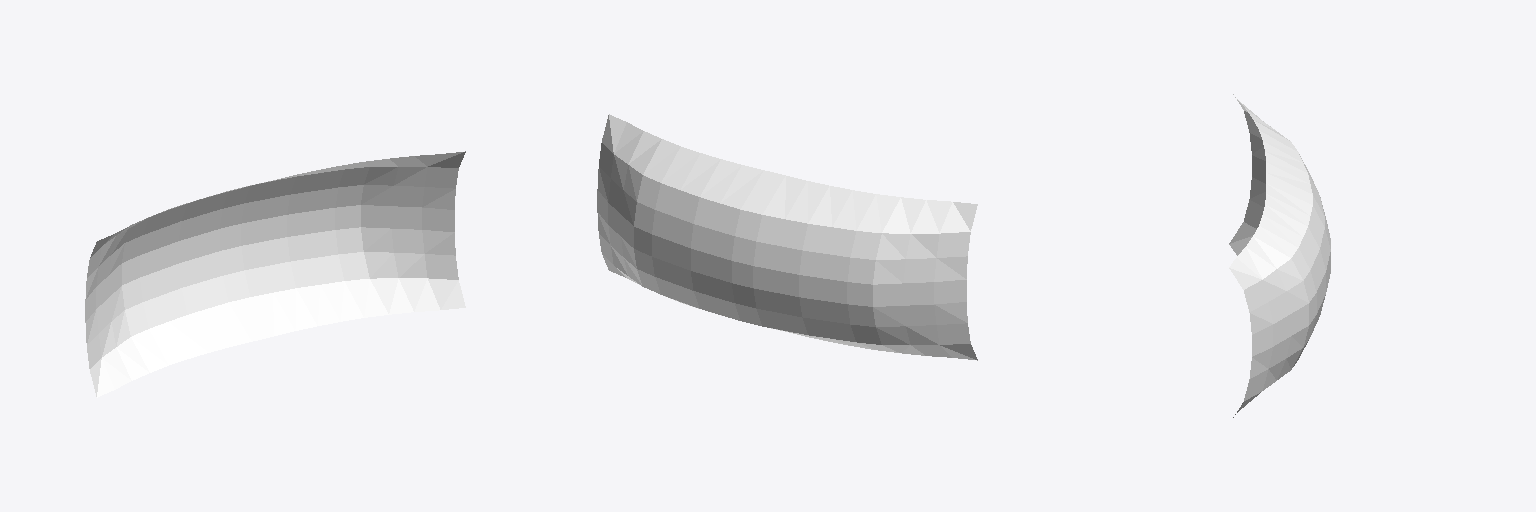
The model's file is ecran.obj.
3 views of the same model, side by side, from view 1: azimuth 30°, elevation 25°; view 2: azimuth 150°, elevation 25°; view 3: azimuth 270°, elevation 25° (orthographic).
Visible parts, largest first — view 1: ecran.obj; view 2: ecran.obj; view 3: ecran.obj.
Boxes of the visible parts, <box> form: ecran.obj: <box>85,151,465,397</box>; ecran.obj: <box>597,114,977,360</box>; ecran.obj: <box>1229,94,1330,417</box>.
Bounding box in the file's own units: 1.78 × 0.72 × 0.425.